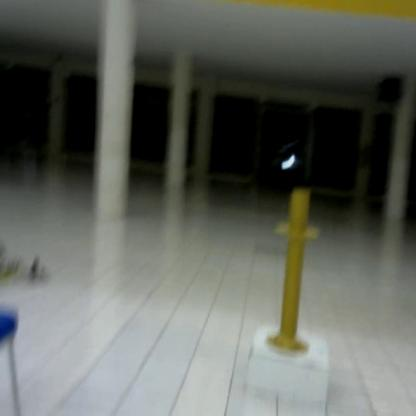pole: (266, 182, 325, 355)
